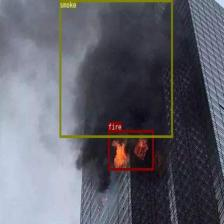fire: (108, 130, 153, 170)
smoke: (59, 0, 172, 137)
